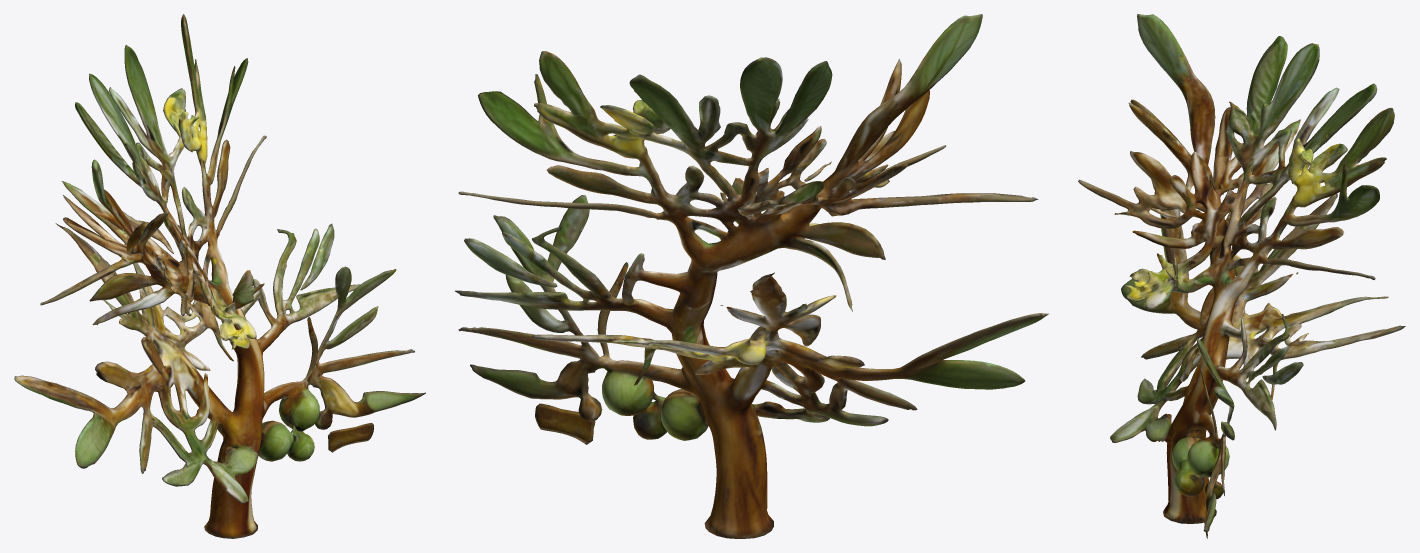
The model's file is Myrrh_Illustration_0923174541.glb.
3 renders of one model, left to right at view 1: azimuth 30°, elevation 25°; view 2: azimuth 150°, elevation 25°; view 3: azimuth 270°, elevation 25°, orthographic. The views are drawn at different scales.
Bounding box in the file's own units: 1.98 × 1.89 × 1.3.
1 material, 1 textured.
